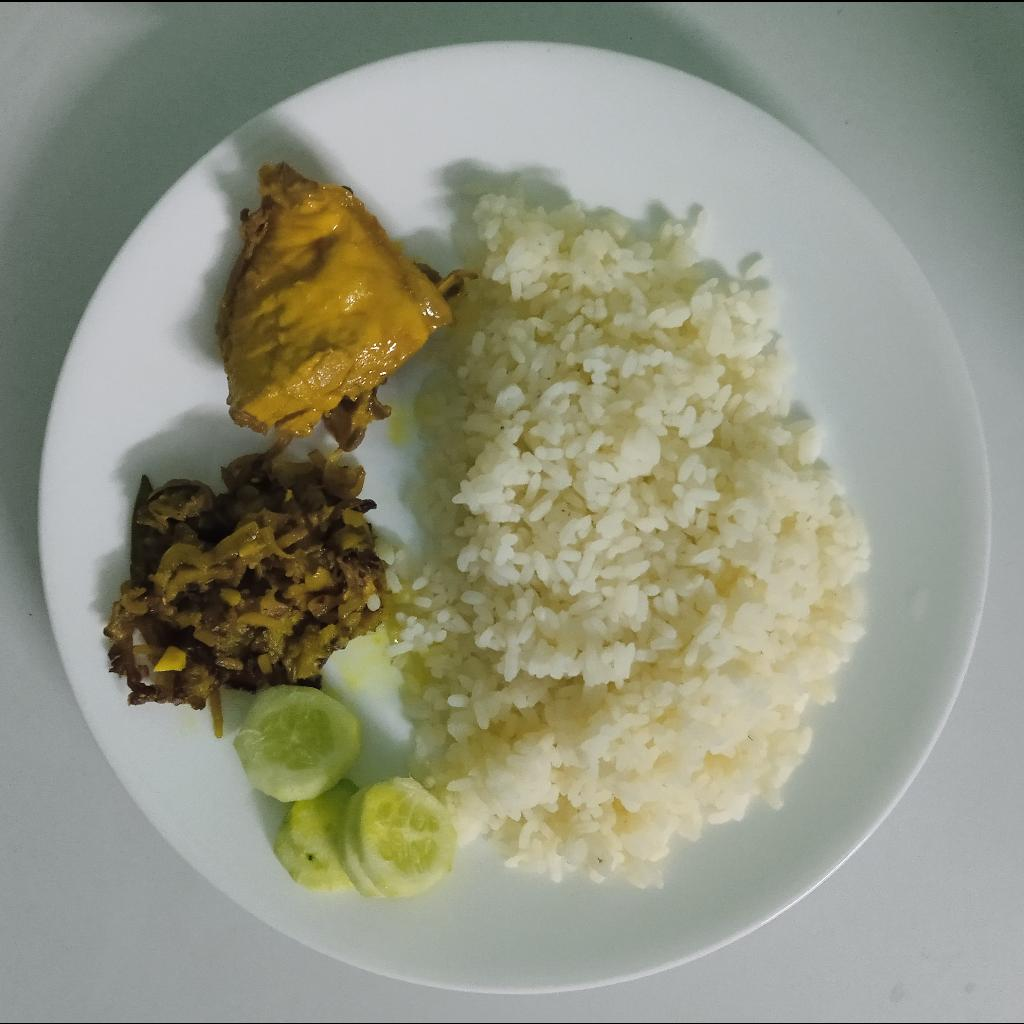chicken: (215, 160, 462, 455)
cucumber: (230, 685, 459, 901)
dundol: (104, 449, 387, 714)
rice: (387, 194, 864, 887)
